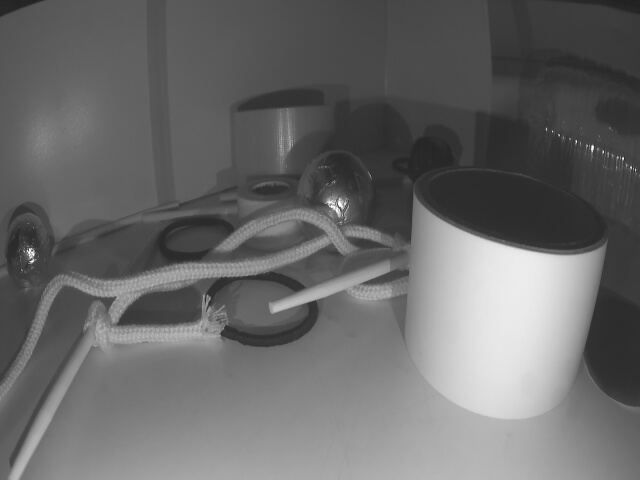Live: (297, 152, 376, 249), (7, 212, 50, 280)
